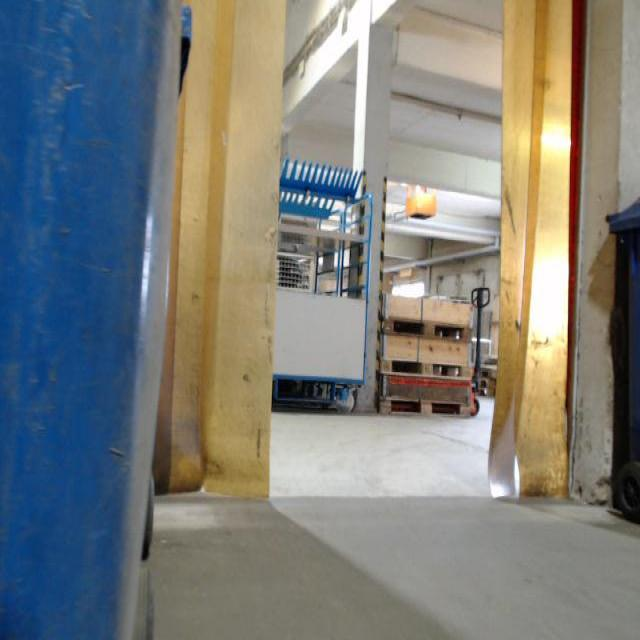pallet: (380, 316, 472, 345), (380, 357, 472, 381), (378, 397, 471, 419)
pallet_truck: (462, 279, 500, 419)
stillage: (274, 212, 317, 294)
